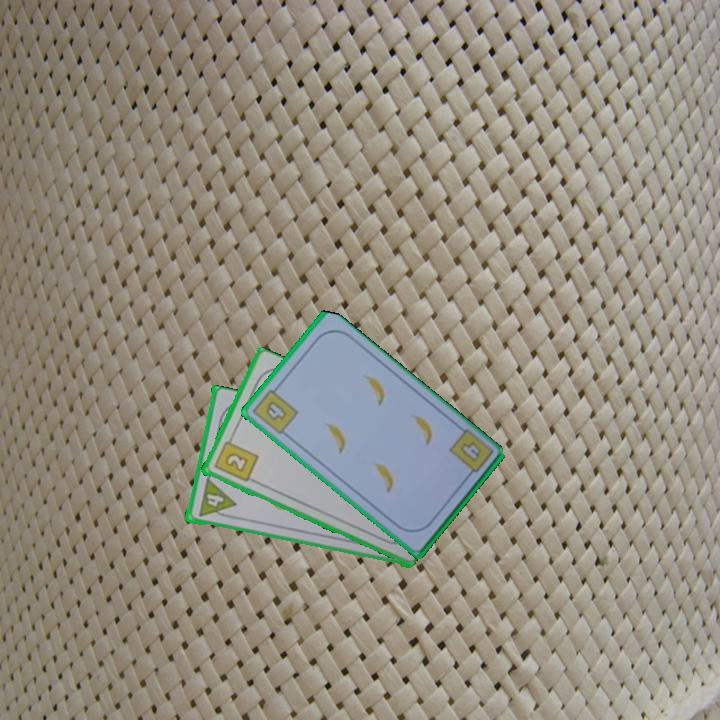2b: (210, 433, 260, 485)
4b: (249, 382, 301, 437), (457, 438, 484, 465)
4p: (201, 476, 238, 510)
